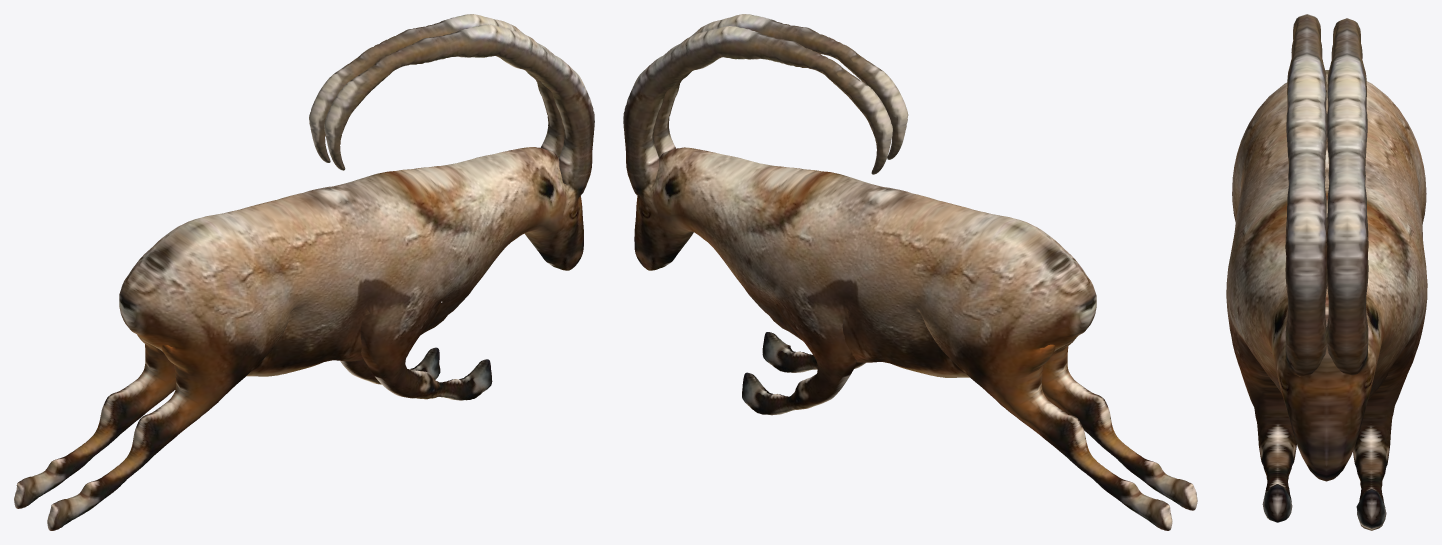
The model's file is stenbuk.glb.
3 views of the same model, side by side, from view 1: azimuth 30°, elevation 25°; view 2: azimuth 150°, elevation 25°; view 3: azimuth 270°, elevation 25° (orthographic). The views are drawn at different scales.
Visible parts, largest first — view 1: mesh_0; view 2: mesh_0; view 3: mesh_0.
Part boxes in pixels (left/top/right/bottom): mesh_0: left=14, top=14, right=594, bottom=530; mesh_0: left=623, top=14, right=1197, bottom=530; mesh_0: left=1226, top=14, right=1427, bottom=530.
Size of the model in its own units: 7.83 by 5.31 by 1.87.
1 material, 1 textured.
